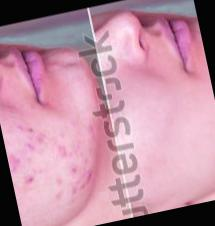Acne: (64, 168, 98, 198), (7, 152, 22, 174), (52, 144, 70, 158), (52, 188, 65, 200), (32, 134, 44, 146), (84, 122, 94, 136), (13, 124, 23, 133), (53, 177, 63, 186), (23, 176, 34, 184), (66, 120, 76, 128), (22, 144, 32, 151), (26, 127, 35, 134), (70, 168, 76, 174)
